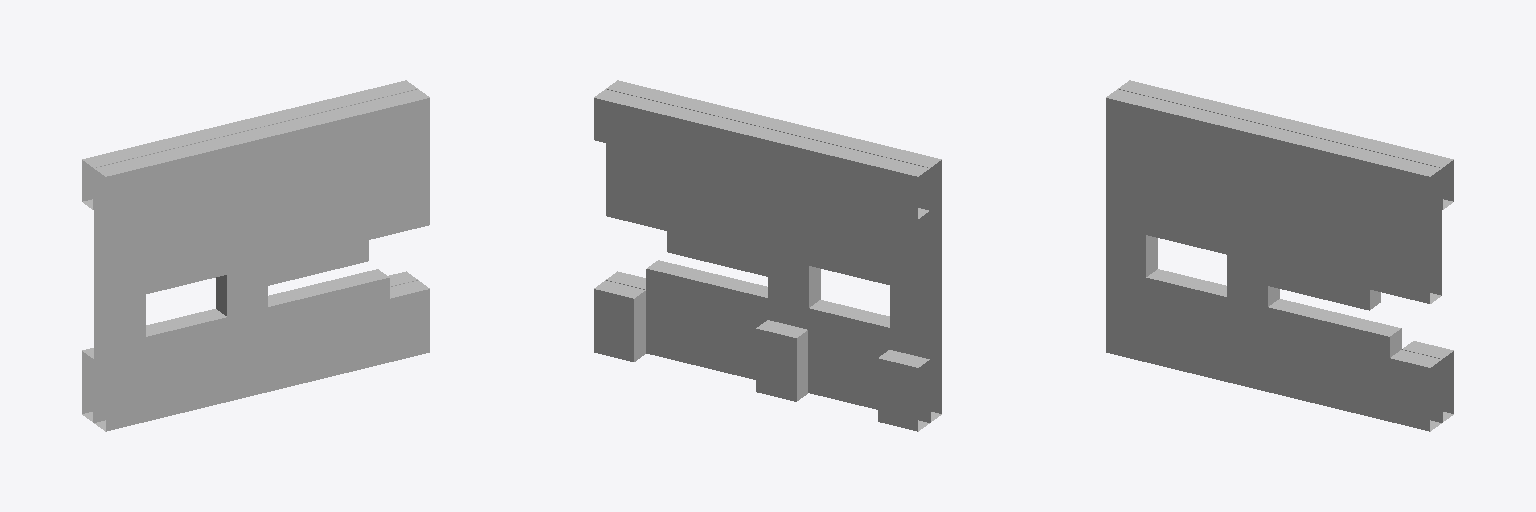
File: Colby8NoMat.obj
3 views of the same model, side by side, from view 1: azimuth 30°, elevation 25°; view 2: azimuth 150°, elevation 25°; view 3: azimuth 330°, elevation 25° (orthographic).
Visible parts, largest first — view 1: Plane, Plane.001_Plane.002; view 2: Plane, Plane.001_Plane.002; view 3: Plane, Plane.001_Plane.002.
Boxes of the visible parts, x1=… form: Plane: x1=94, y1=89, x2=429, y2=431; Plane.001_Plane.002: x1=82, y1=80, x2=417, y2=422; Plane: x1=606, y1=80, x2=941, y2=422; Plane.001_Plane.002: x1=594, y1=89, x2=929, y2=431; Plane: x1=1106, y1=89, x2=1441, y2=431; Plane.001_Plane.002: x1=1118, y1=80, x2=1453, y2=422.
Size of the model in its own units: 16 by 12 by 2.04.